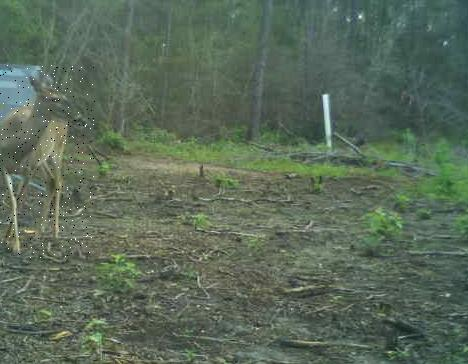Deer: (0, 64, 95, 260)
